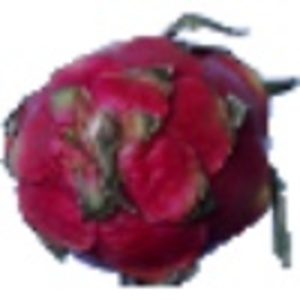pitaia: (1, 12, 300, 289)
